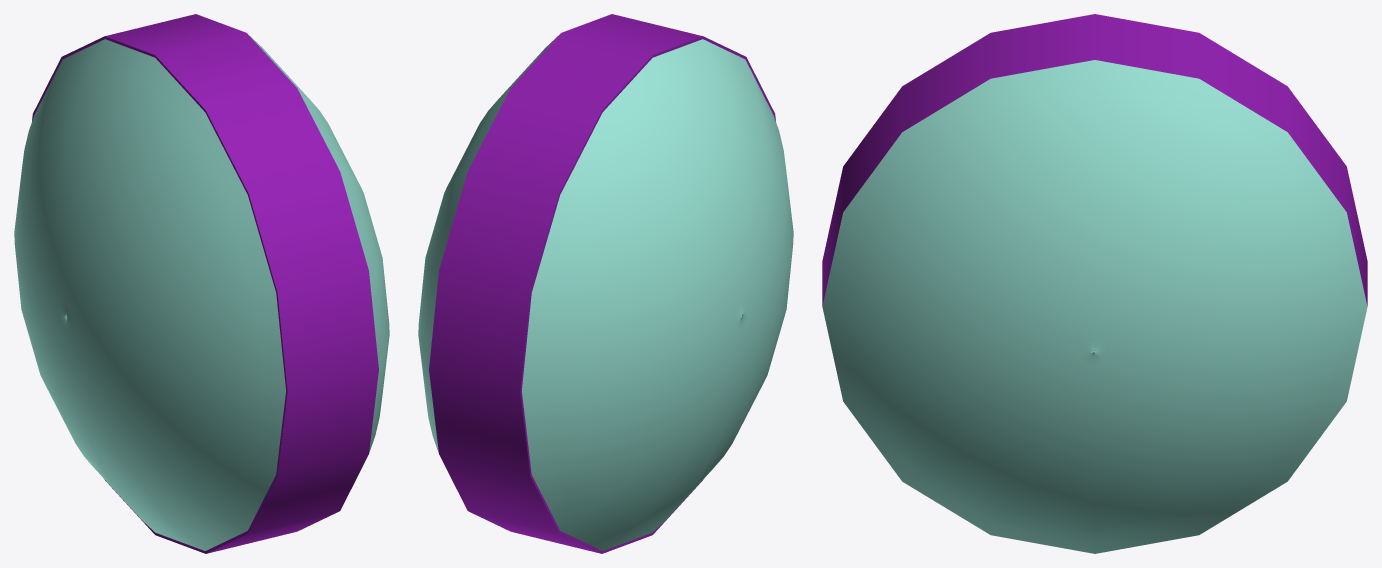
Rendered from lens.DAE.
3 views of the same model, side by side, from view 1: azimuth 30°, elevation 25°; view 2: azimuth 150°, elevation 25°; view 3: azimuth 270°, elevation 25° (orthographic). The views are drawn at different scales.
Visible parts, largest first — view 1: Arc02, Line01, Arc01; view 2: Arc02, Line01, Arc01; view 3: Arc01, Line01.
Part boxes in pixels (left/top/right/bottom): Arc02: left=14, top=39, right=285, bottom=550; Line01: left=32, top=14, right=378, bottom=553; Arc01: left=248, top=34, right=389, bottom=453; Arc02: left=522, top=39, right=793, bottom=550; Line01: left=429, top=14, right=775, bottom=553; Arc01: left=418, top=34, right=559, bottom=453; Arc01: left=822, top=60, right=1367, bottom=553; Line01: left=822, top=14, right=1367, bottom=306.
Bounding box in the file's own units: 59.43 × 100 × 100.
